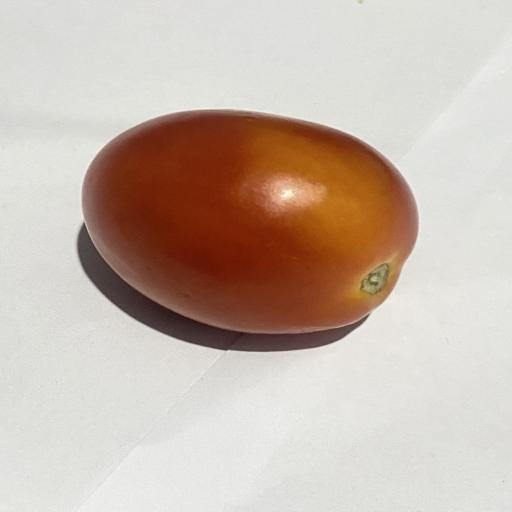ripe: (82, 110, 418, 333)
